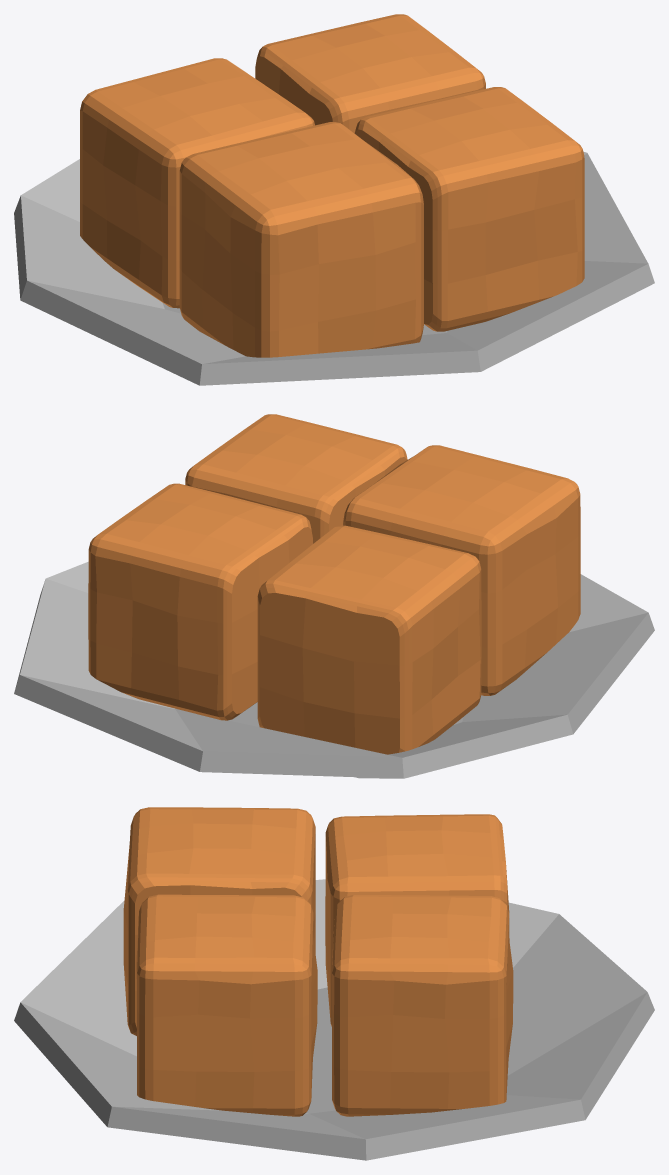
Rendered from Fried_Tofu.fbx.
3 renders of one model, top to bottom at view 1: azimuth 30°, elevation 25°; view 2: azimuth 150°, elevation 25°; view 3: azimuth 270°, elevation 25°, orthographic. The views are drawn at different scales.
Parts seen in each view (by area): view 1: Plane.007; view 2: Plane.007; view 3: Plane.007.
Part boxes in pixels (x1,y1,x2,y2): Plane.007: (14, 14, 654, 385); Plane.007: (14, 414, 654, 778); Plane.007: (14, 807, 654, 1160).
Bounding box in the file's own units: 208 × 70.05 × 208.
